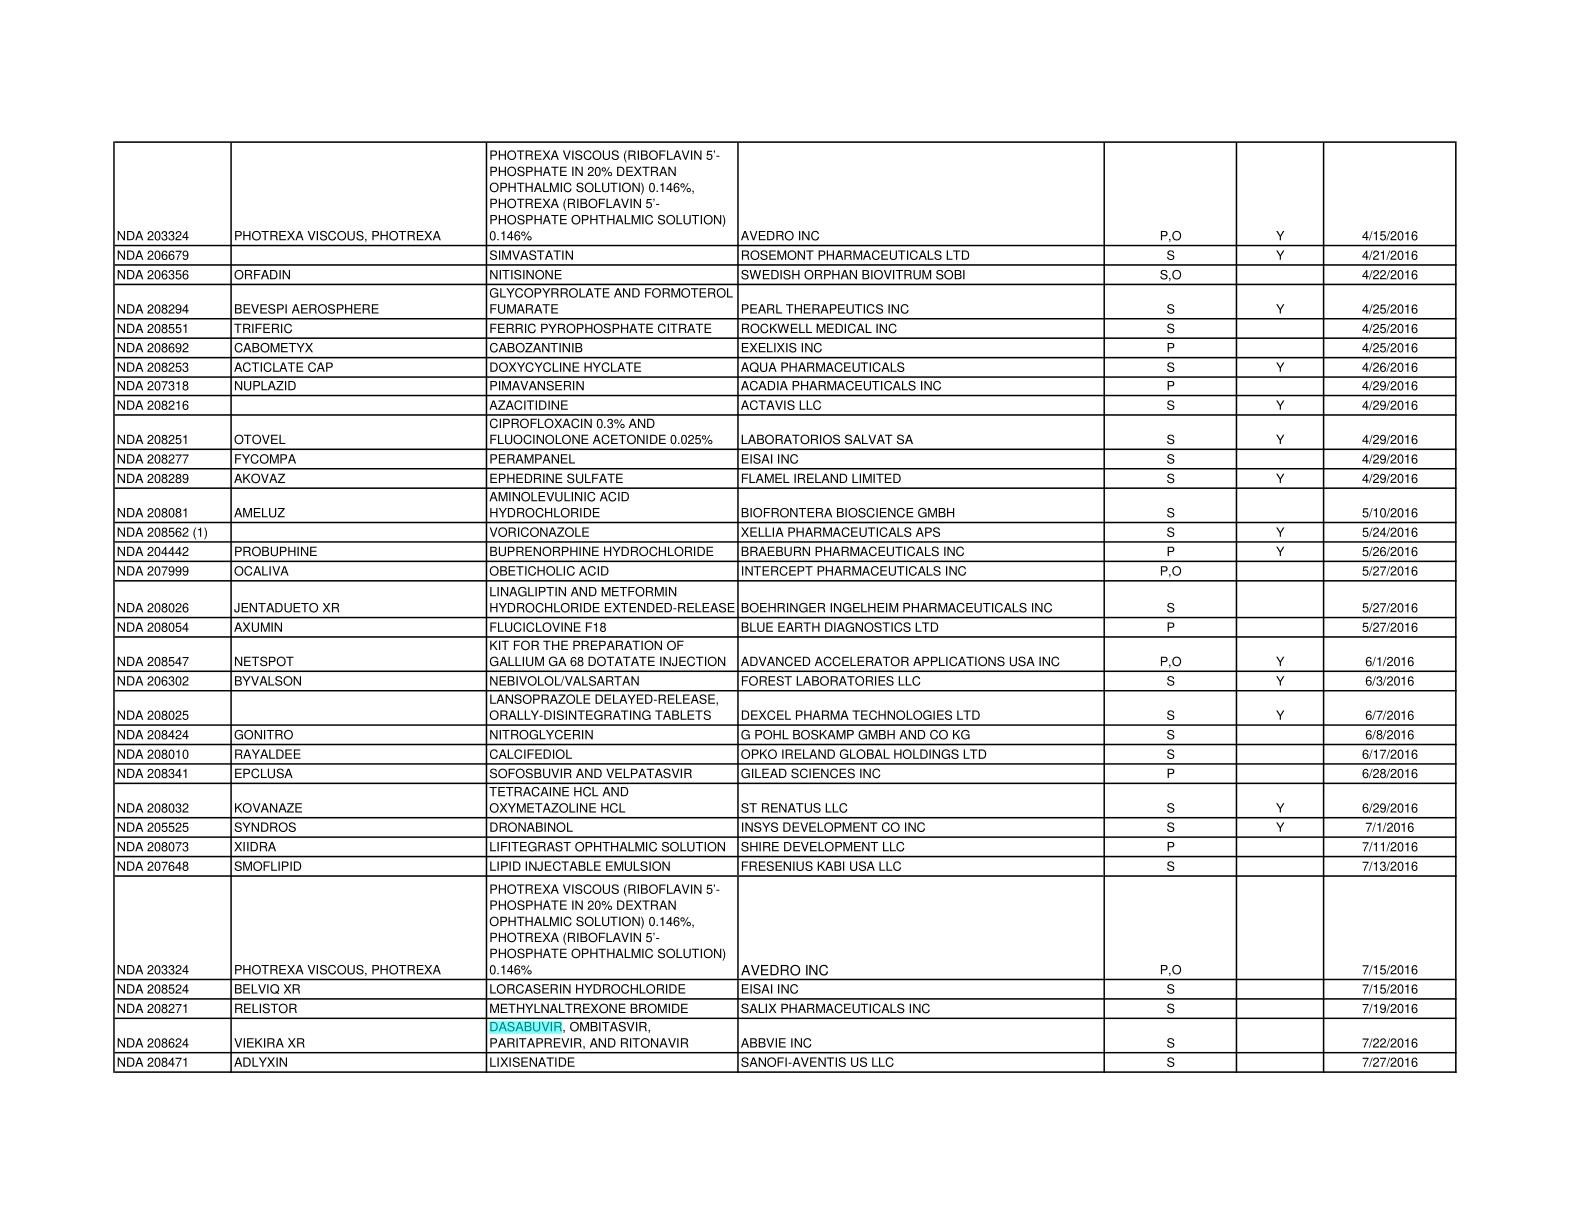full_lined: (112, 140, 1457, 1074)
